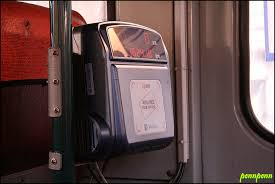terminal: (73, 19, 183, 156)
